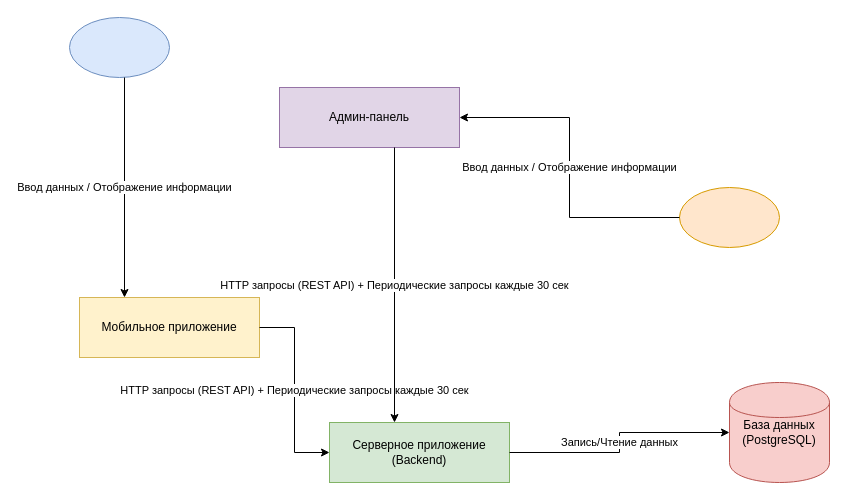
Image size: 847x500. Some labels were removed from this diagram. Each missing label, with the centre of its shape:
"Администратор" goes at [729,217].
"Пользователь" goes at [119,47].
